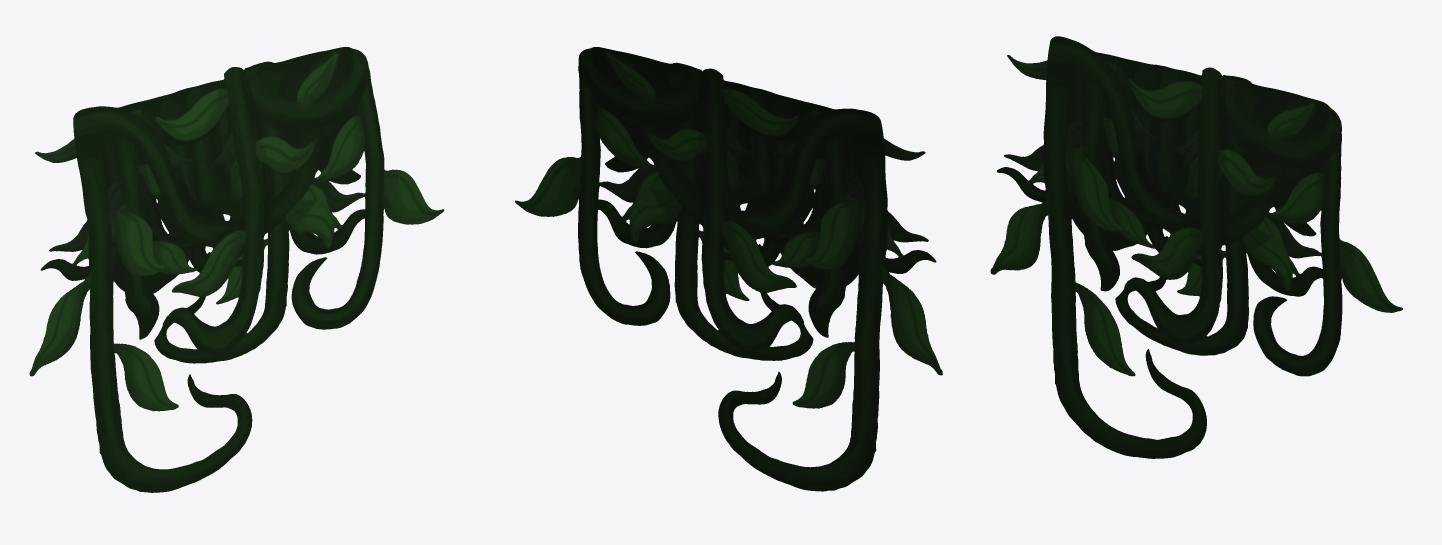
The model's file is sm_env_darkvine.fbx.
3 views of the same model, side by side, from view 1: azimuth 30°, elevation 25°; view 2: azimuth 150°, elevation 25°; view 3: azimuth 330°, elevation 25° (orthographic). The views are drawn at different scales.
Visible parts, largest first — view 1: sm_env_darkvines; view 2: sm_env_darkvines; view 3: sm_env_darkvines.
Part boxes in pixels (box(x1,y1,x2,y2)): sm_env_darkvines: box(29, 47, 444, 492); sm_env_darkvines: box(515, 47, 942, 491); sm_env_darkvines: box(990, 36, 1402, 458).
Size of the model in its own units: 123 by 108 by 6.15.
